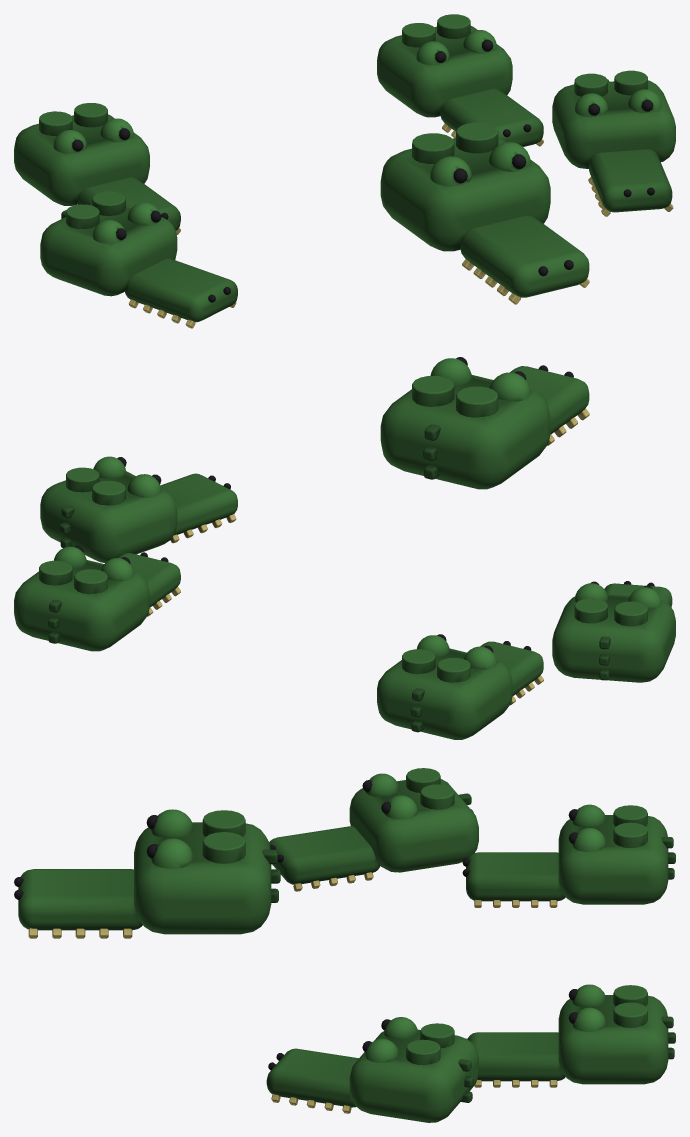
File: gator-gang-lod0.glb
3 views of the same model, one above another, from view 1: azimuth 30°, elevation 25°; view 2: azimuth 150°, elevation 25°; view 3: azimuth 270°, elevation 25° (orthographic).
Visible parts, largest first — view 1: cap_hat, att3_hat, att2_hat, att0_hat, att1_hat; view 2: cap_hat, att2_hat, att0_hat, att1_hat, att3_hat; view 3: cap_hat, att3_hat, att1_hat, att2_hat, att0_hat.
Boxes of the visible parts, x1=… form: cap_hat: x1=380, y1=122, x2=589, y2=304; att3_hat: x1=40, y1=191, x2=237, y2=328; att2_hat: x1=552, y1=70, x2=675, y2=216; att0_hat: x1=377, y1=14, x2=543, y2=146; att1_hat: x1=14, y1=103, x2=180, y2=234; cap_hat: x1=380, y1=357, x2=589, y2=489; att2_hat: x1=40, y1=456, x2=237, y2=562; att0_hat: x1=14, y1=545, x2=180, y2=651; att1_hat: x1=377, y1=634, x2=543, y2=739; att3_hat: x1=552, y1=581, x2=675, y2=682; cap_hat: x1=14, y1=809, x2=280, y2=938; att3_hat: x1=269, y1=768, x2=478, y2=891; att1_hat: x1=462, y1=804, x2=675, y2=907; att2_hat: x1=266, y1=1017, x2=478, y2=1122; att0_hat: x1=467, y1=984, x2=675, y2=1087.
Bounding box in the file's own units: 2.12 × 0.5079 × 1.93.
